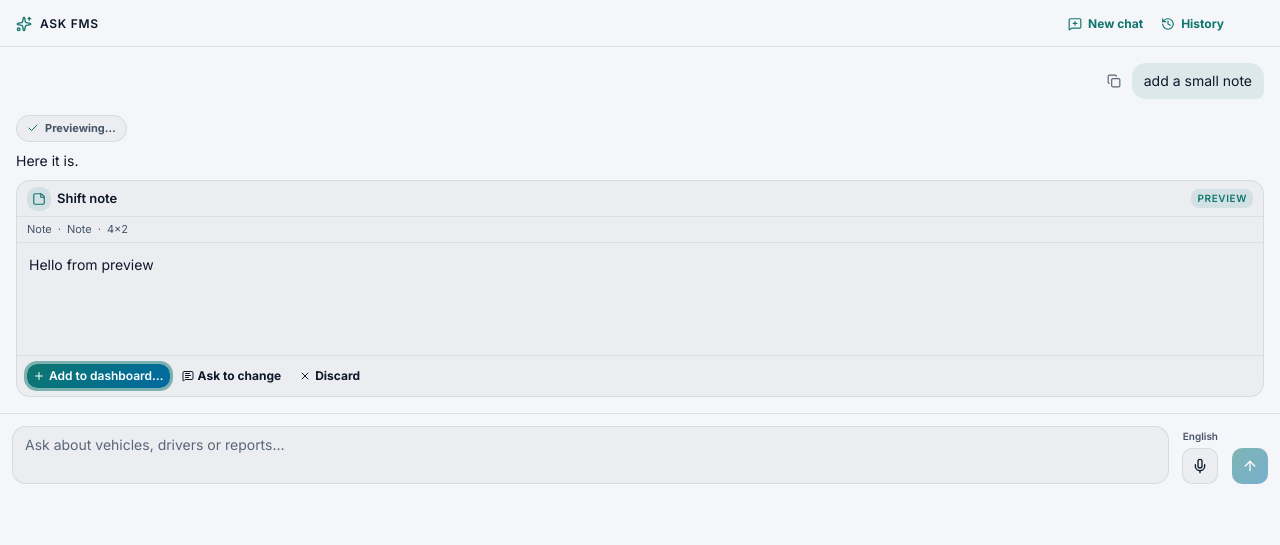
Scenario: D-135 P-T4: preview card in the global panel › Add to dashboard… lists own dashboards + New; picking one saves and links it
Press Enter
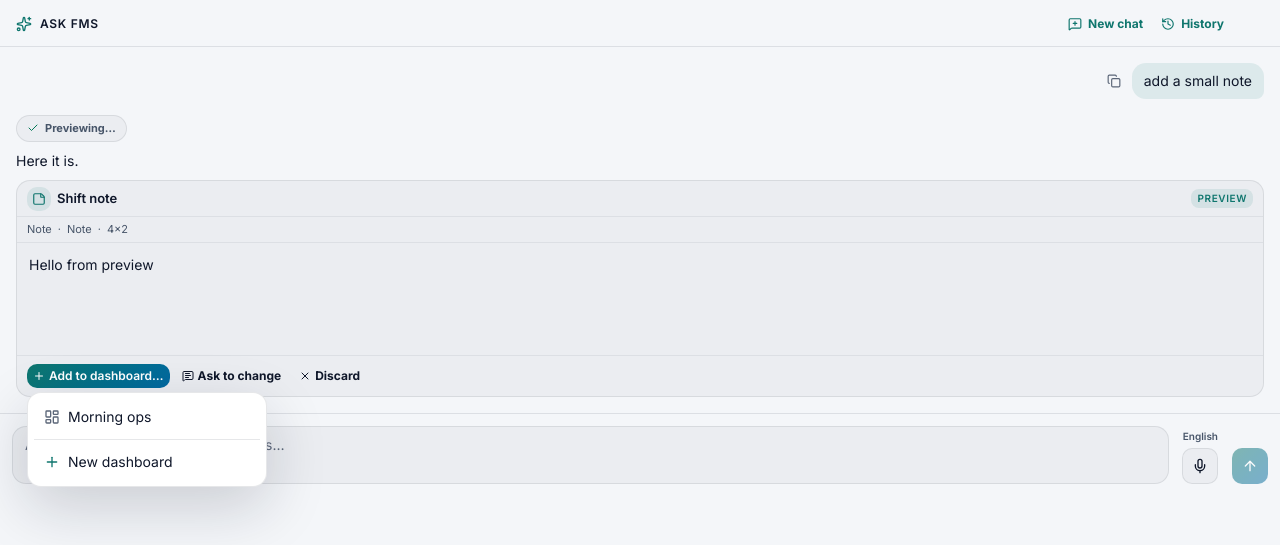
Expected: the menu item with test id "picker-new" is shown, [44,453,172,470]
Click the menu item with test id "picker-dashboard" at (98, 416), box [44,408,151,425]
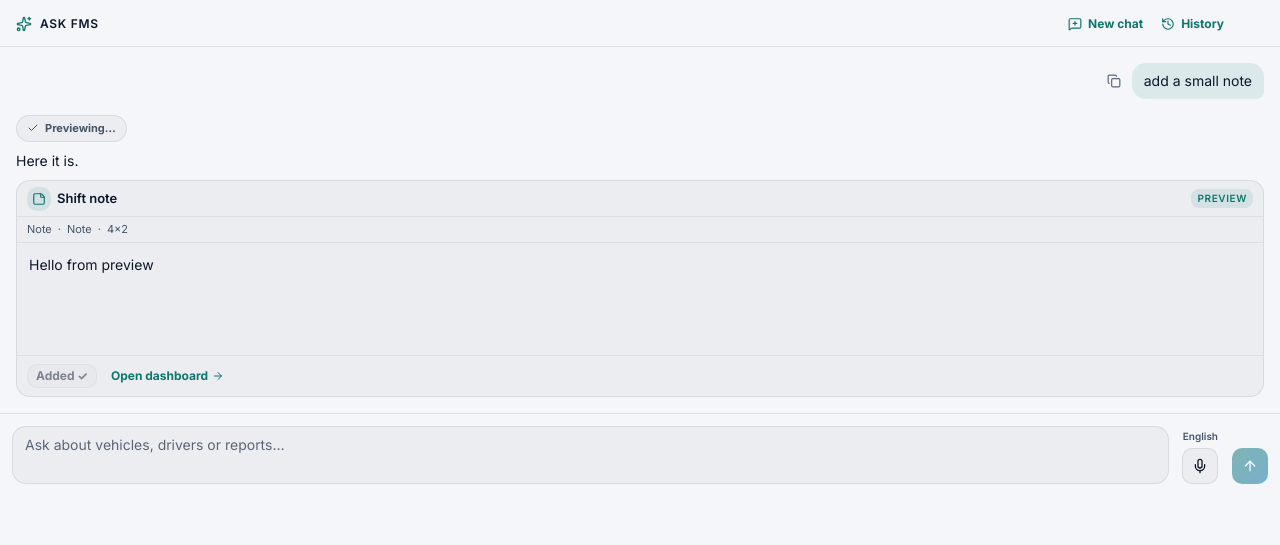
Expected: the button with test id "preview-added" is shown, [27,364,97,388]
